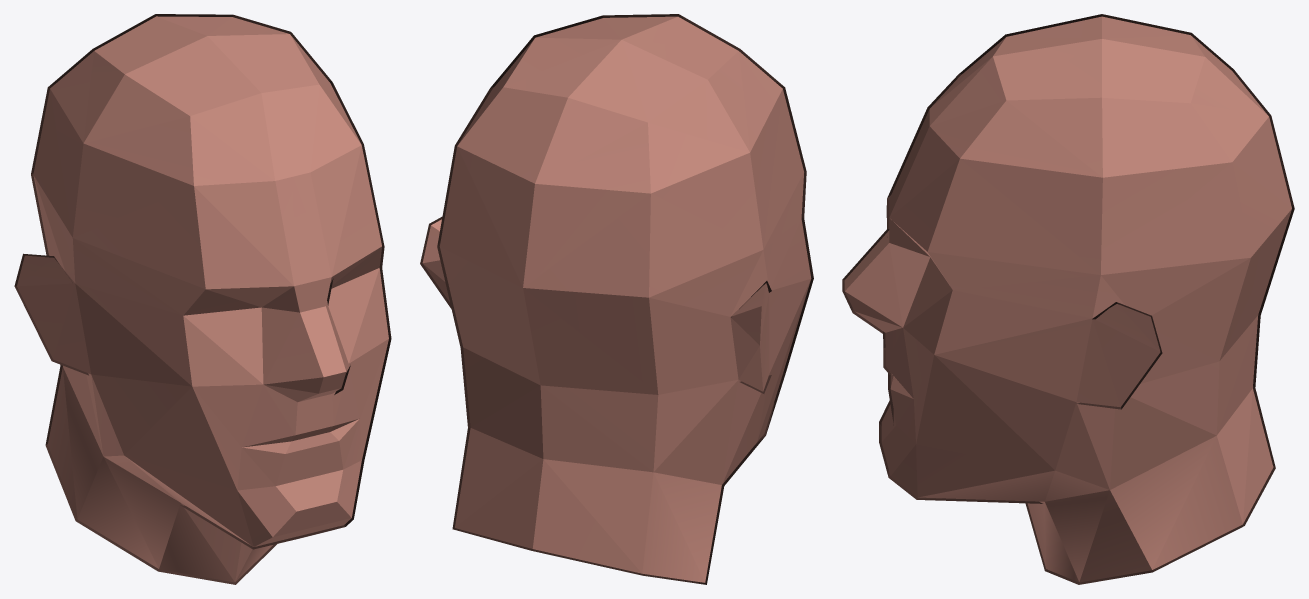
The picture shows the model from 3 angles, left to right: view 1: azimuth 30°, elevation 25°; view 2: azimuth 150°, elevation 25°; view 3: azimuth 270°, elevation 25°; orthographic projection. The views are drawn at different scales.
Parts seen in each view (by area): view 1: head_mesh, head_outline; view 2: head_mesh, head_outline; view 3: head_mesh, head_outline.
Part boxes in pixels (bbox=[...]): head_mesh: bbox=[17, 16, 388, 582]; head_outline: bbox=[14, 14, 391, 584]; head_mesh: bbox=[422, 16, 811, 582]; head_outline: bbox=[420, 14, 813, 584]; head_mesh: bbox=[844, 16, 1291, 582]; head_outline: bbox=[842, 14, 1294, 584].
Size of the model in its own units: 147 by 228 by 175.
Materials: 2 (2 with a texture image).
